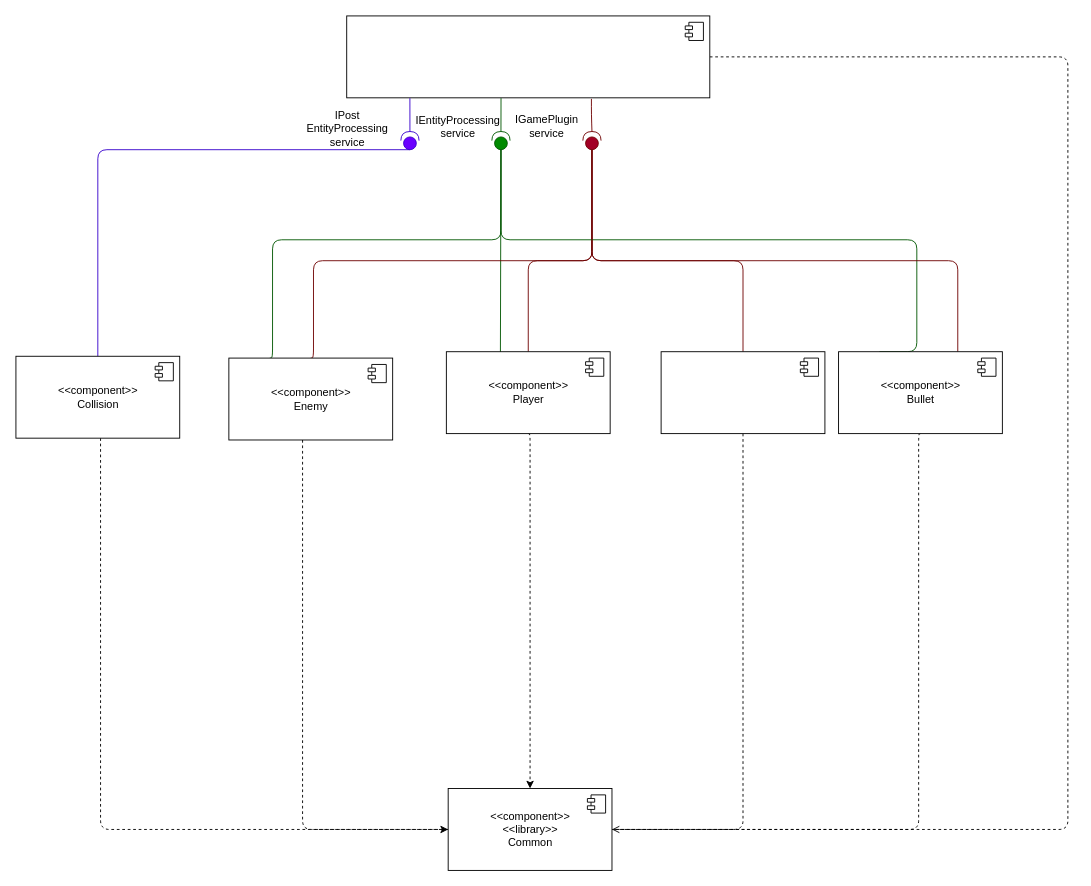
This 1091x886 diagram has some shape labels left out. The centre of each missing label's shape, as x and y in pixels:
<<component>> Asteroid: (x=742, y=392)
Core: (x=528, y=56)
